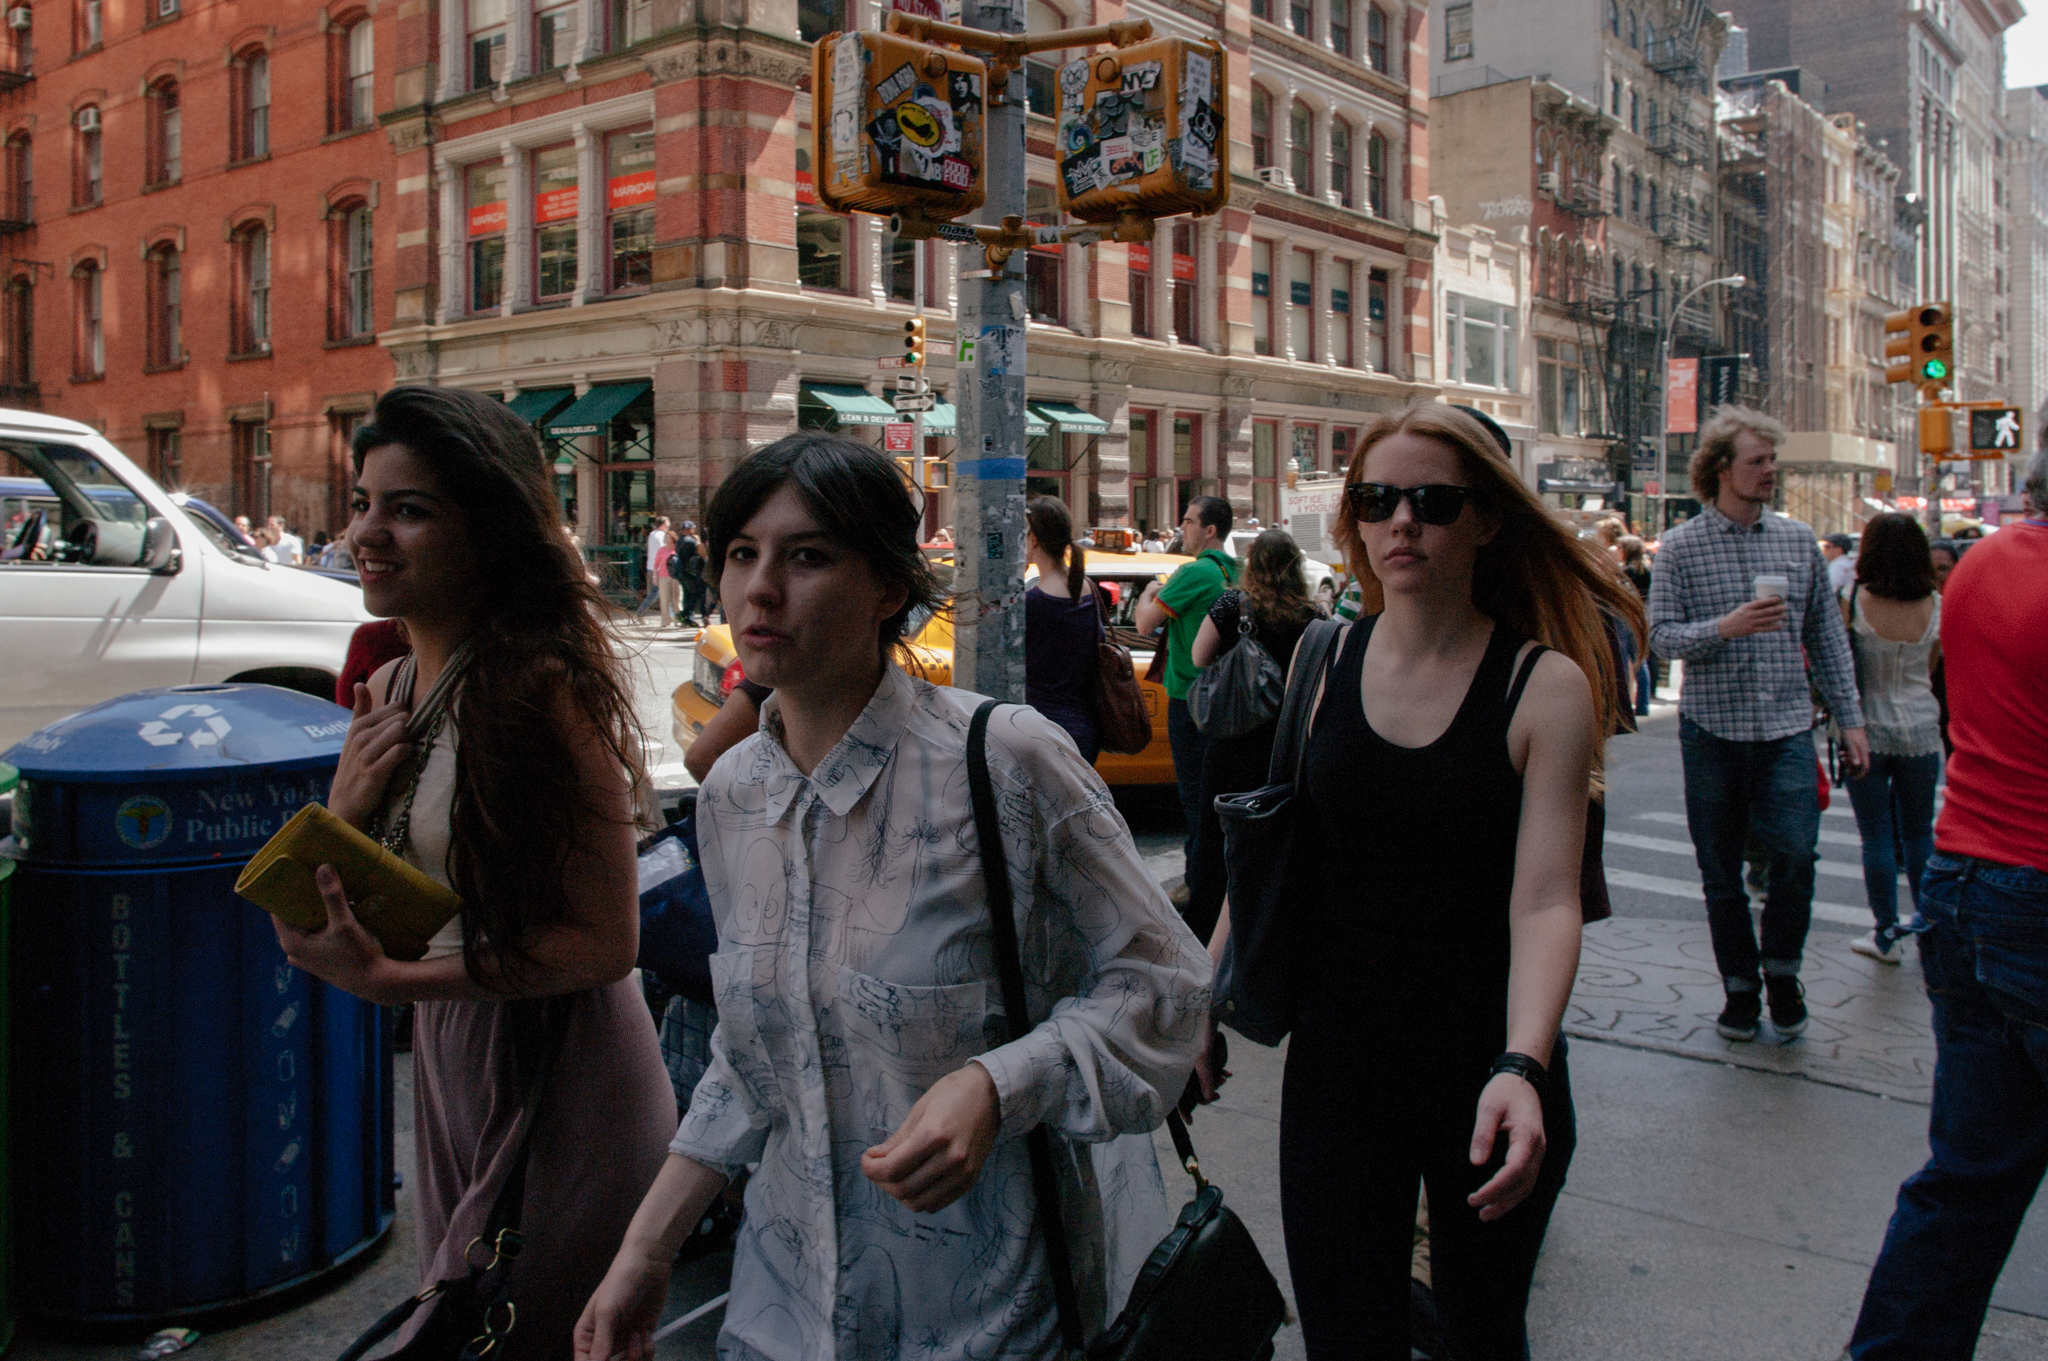car: (3, 399, 412, 699)
person: (560, 422, 1286, 1361), (233, 358, 719, 1336), (1203, 379, 1688, 1361), (1822, 505, 2048, 1270), (1640, 391, 1871, 1056), (1807, 494, 1962, 982), (1002, 489, 1162, 760), (1193, 518, 1333, 789), (1138, 489, 1250, 779)
